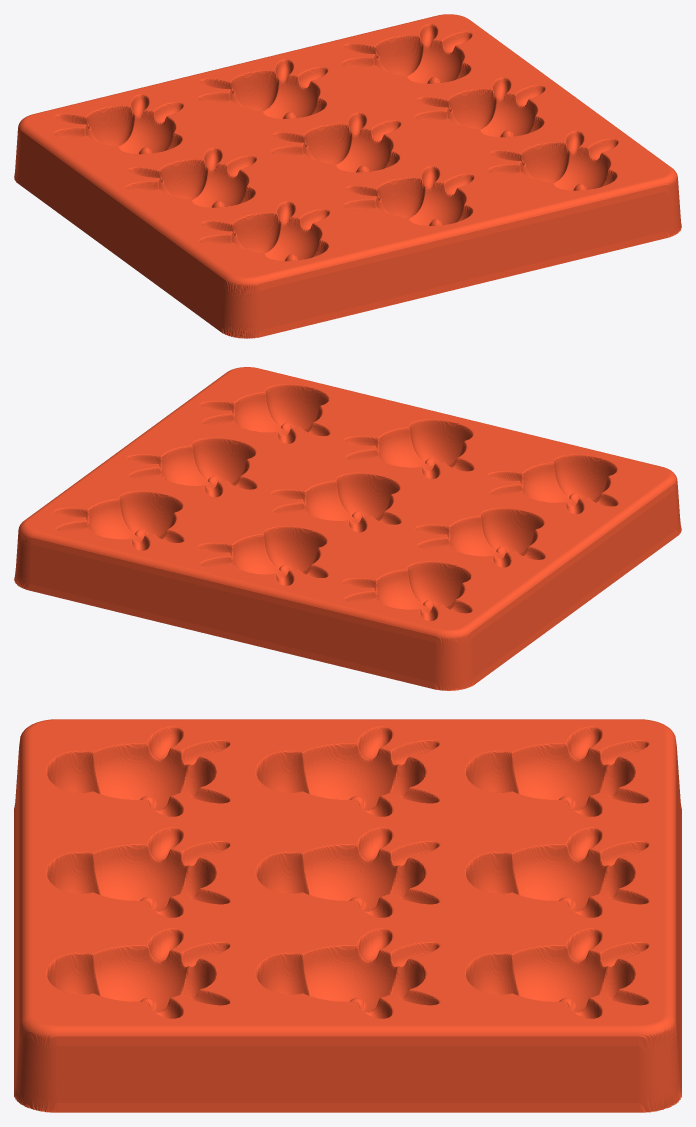
The model's file is mold.glb.
3 renders of one model, top to bottom at view 1: azimuth 30°, elevation 25°; view 2: azimuth 150°, elevation 25°; view 3: azimuth 270°, elevation 25°, orthographic. The views are drawn at different scales.
Parts seen in each view (by area): view 1: geometry_0; view 2: geometry_0; view 3: geometry_0.
Boxes of the visible parts, bbox=[...] form: geometry_0: bbox=[14, 14, 681, 338]; geometry_0: bbox=[14, 367, 681, 690]; geometry_0: bbox=[14, 719, 681, 1112].
Bounding box in the file's own units: 0.1579 × 0.0185 × 0.1395.
